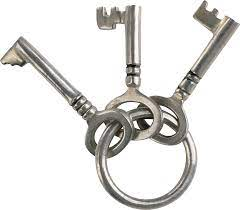key: (2, 3, 238, 208)
